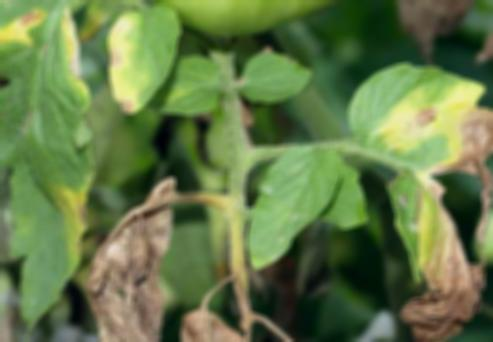Tomato Early blight leaf: (0, 10, 89, 339), (346, 48, 493, 174), (96, 0, 186, 125)
Tomato leaf: (239, 149, 352, 270)
